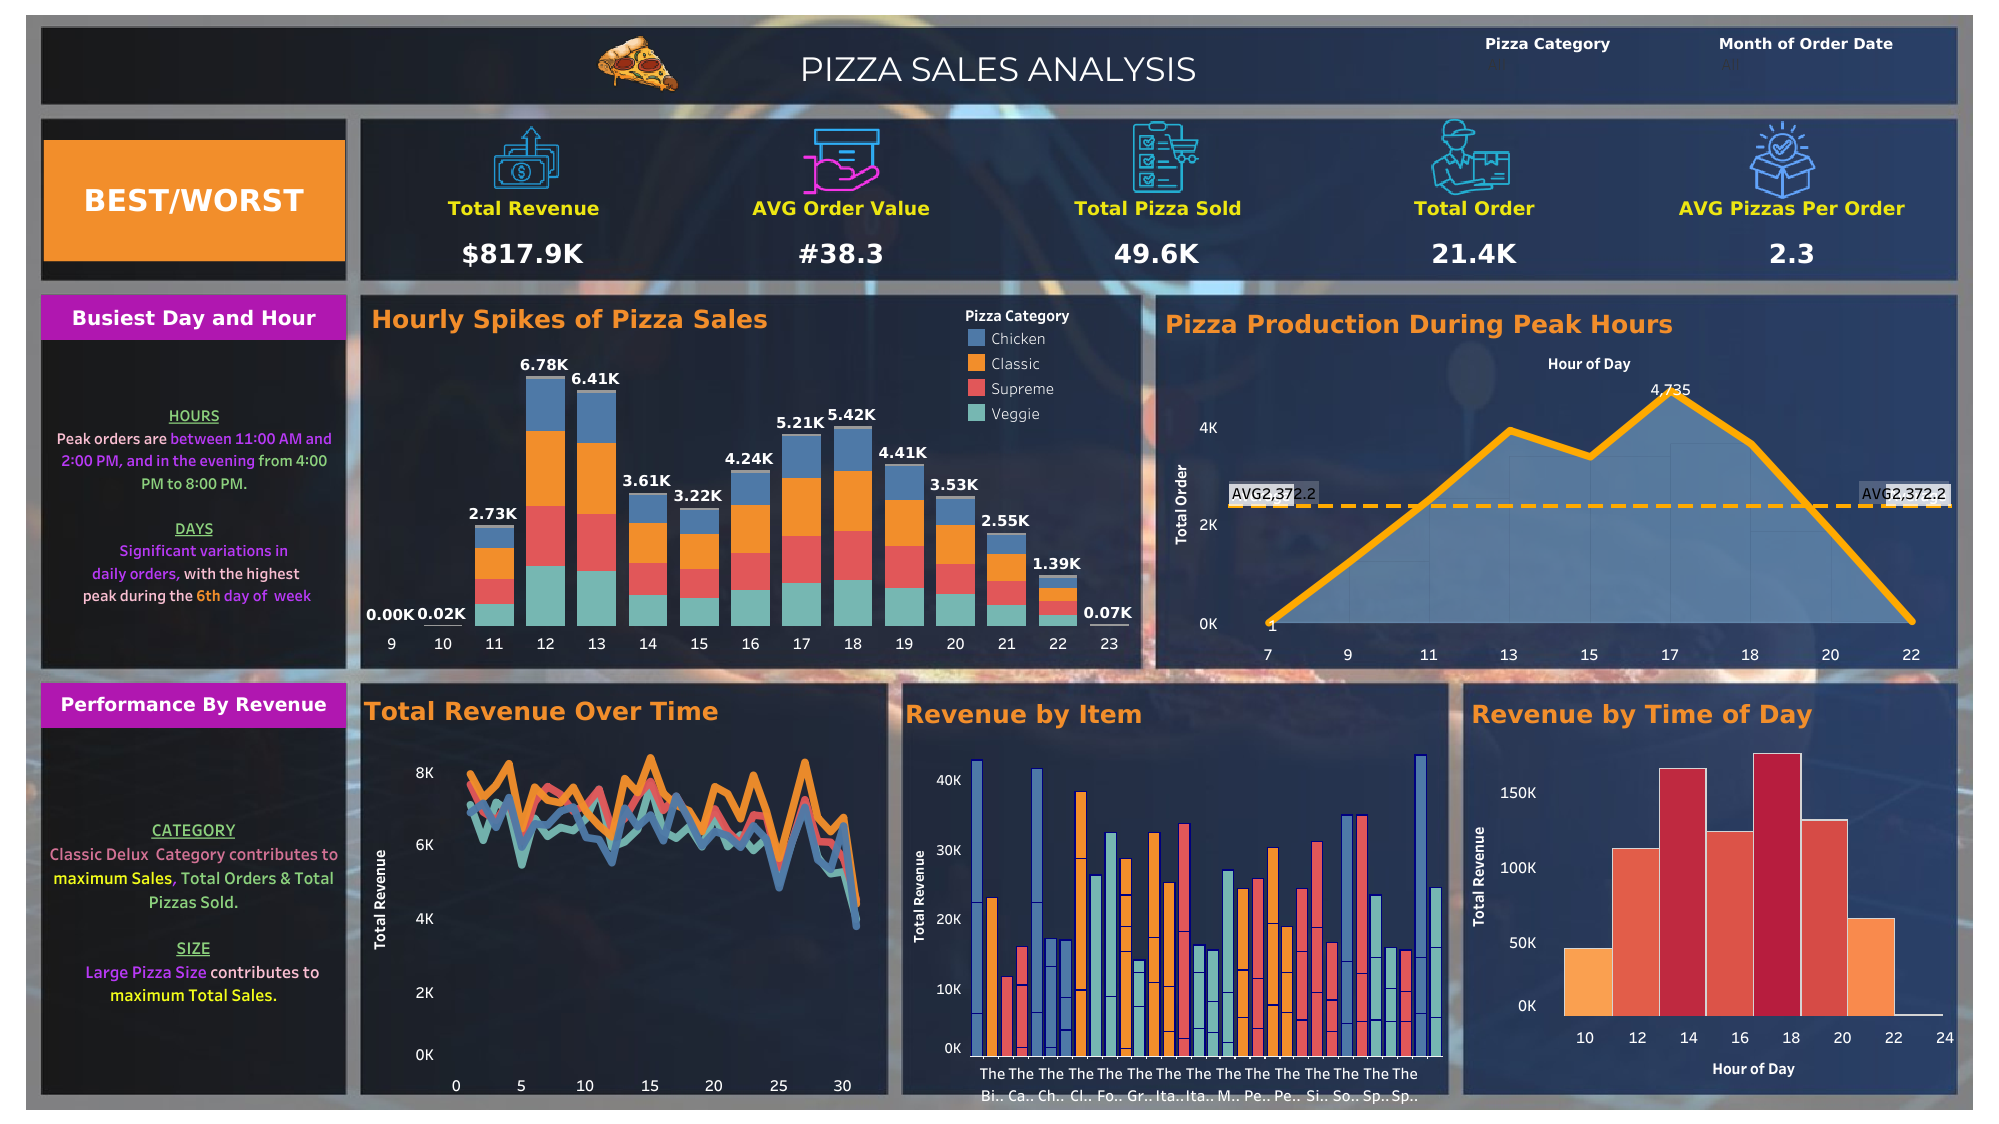

This screenshot's page, from the dashboard's own definition file:
{"tool":"tableau","page":{"name":"PSA Dashboard ","canvas":[1600,900],"ordinal":1},"visuals":[{"type":"image","param":"Image/Background_Image1.jpg","box":[8,8,1584,884]},{"type":"text","box":[34,24,1529,61]},{"type":"image","param":"Image/Slice-of-pizza-on-transparent-background-PNG.png","box":[380,26,261,50]},{"type":"filter","title":"Hourly Spikes of Pizza Sales","param":"[federated.0fn10ok01wbyrm17l5i3q10tctgx].[none:pizza_category:nk]","box":[1188,26,166,53]},{"type":"filter","title":"Hourly Spikes of Pizza Sales","param":"[federated.0fn10ok01wbyrm17l5i3q10tctgx].[mn:order_date:ok]","box":[1375,26,180,52]},{"type":"image","param":"Image/delivery-man.png","box":[1063,93,227,65]},{"type":"image","param":"Image/shipping-box.png","box":[590,94,167,70]},{"type":"image","param":"Image/profit-growth.png","box":[372,96,99,60]},{"type":"image","param":"Image/order-delivery.png","box":[835,96,195,59]},{"type":"image","param":"Image/order (1).png","box":[1319,97,215,62]},{"type":"dashboard-object","box":[35,112,241,97]},{"type":"worksheet","title":"KPI BANNER","mark":"Automatic","box":[292,147,1269,71]},{"type":"text","box":[33,236,244,36]},{"type":"worksheet","title":"Hourly Spikes of Pizza Sales","mark":"Bar","rows":["Calculation_1664080063612268545","Calculation_1664080063612268545"],"cols":["order_time"],"box":[293,237,615,286]},{"type":"legend","title":"Hourly Spikes of Pizza Sales","param":"[federated.0fn10ok01wbyrm17l5i3q10tctgx].[none:pizza_category:nk]","box":[771,241,132,113]},{"type":"worksheet","title":"Pizza Production During Peak Hours","mark":"Area","rows":["Calculation_1664080063612411906","Calculation_1664080063612411906"],"cols":["Hour of Day (bin)"],"box":[928,241,633,291]},{"type":"text","box":[37,276,237,256]},{"type":"text","box":[33,546,244,36]},{"type":"worksheet","title":"Total Revenue Over Time","mark":"Automatic","rows":["Calculation_1664080063611842560"],"cols":["order_date"],"box":[287,551,418,326]},{"type":"worksheet","title":"Revenue by Item","mark":"Bar","rows":["Calculation_1664080063611842560"],"cols":["pizza_name"],"box":[720,553,434,332]},{"type":"worksheet","title":"Revenue by Time of Day","mark":"Bar","rows":["Calculation_1664080063611842560"],"cols":["Hour of Day (bin)"],"box":[1173,553,396,317]},{"type":"text","box":[37,588,236,283]}]}

Visuals, with their boxes in screenshot pixels (x1, y1, x2, y2), scaled from the page's 1600x900 canvas onto the 1999x1124 screenshot:
image: (10, 10, 1989, 1114)
text: (42, 30, 1953, 106)
image: (475, 32, 801, 95)
"Hourly Spikes of Pizza Sales" filter: (1484, 32, 1692, 99)
"Hourly Spikes of Pizza Sales" filter: (1718, 32, 1943, 97)
image: (1328, 116, 1612, 197)
image: (737, 117, 946, 205)
image: (465, 120, 588, 195)
image: (1043, 120, 1287, 194)
image: (1648, 121, 1917, 199)
dashboard-object: (44, 140, 345, 261)
"KPI BANNER" worksheet: (365, 184, 1950, 272)
text: (41, 295, 346, 340)
"Hourly Spikes of Pizza Sales" worksheet (Bar marks): (366, 296, 1134, 653)
"Hourly Spikes of Pizza Sales" legend: (963, 301, 1128, 442)
"Pizza Production During Peak Hours" worksheet (Area marks): (1159, 301, 1950, 664)
text: (46, 345, 342, 664)
text: (41, 682, 346, 727)
"Total Revenue Over Time" worksheet: (359, 688, 881, 1095)
"Revenue by Item" worksheet (Bar marks): (900, 691, 1442, 1105)
"Revenue by Time of Day" worksheet (Bar marks): (1466, 691, 1960, 1087)
text: (46, 734, 341, 1088)
